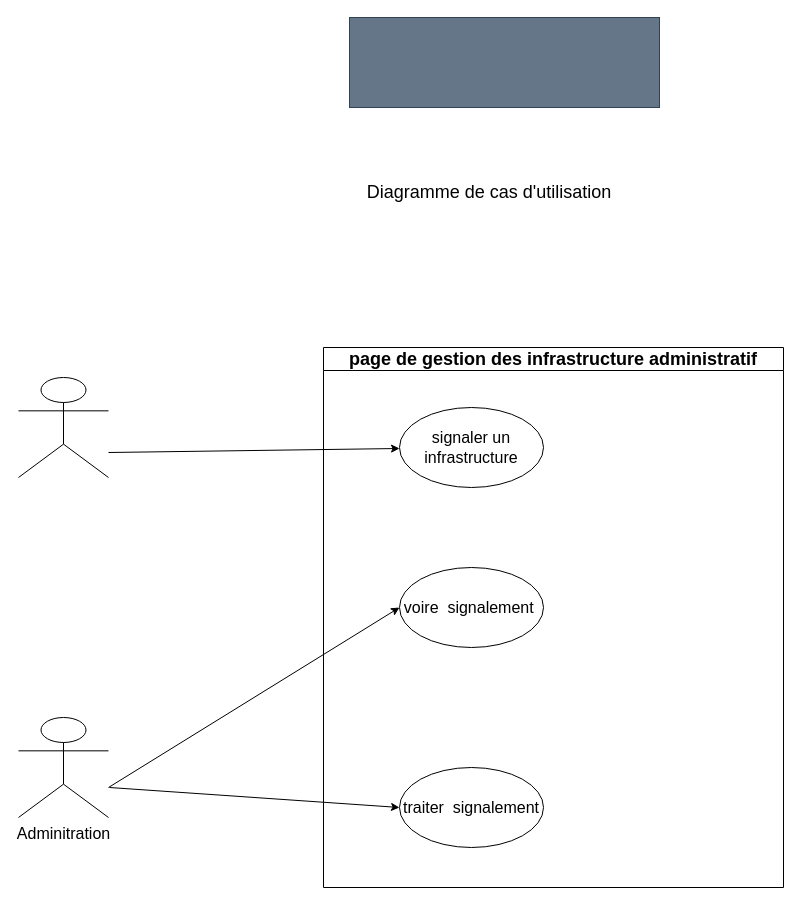
Image size: 801x905. Some labels were removed from this diagram. Here are the shapes that lost their labels. From the top down, the centre of each, then its label:
point 504,62: 9- Canevas du rapport - Système de suivi des infrastructures publiques
point 63,427: Citoyen
